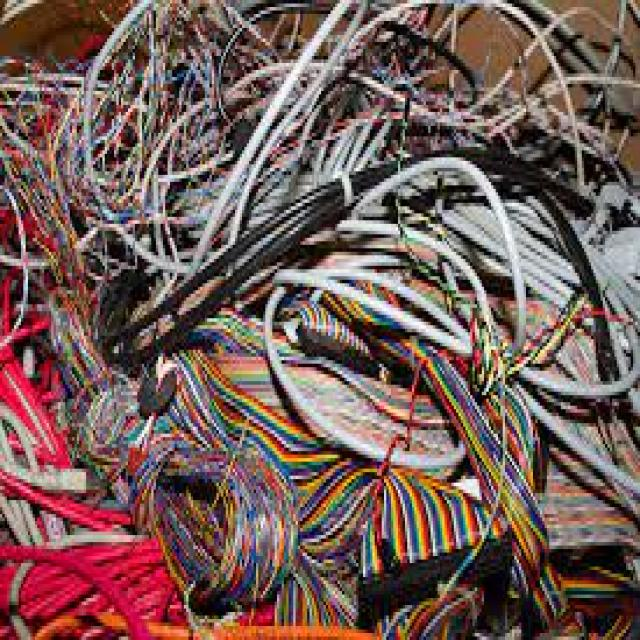Hazard: (43, 12, 599, 640)
